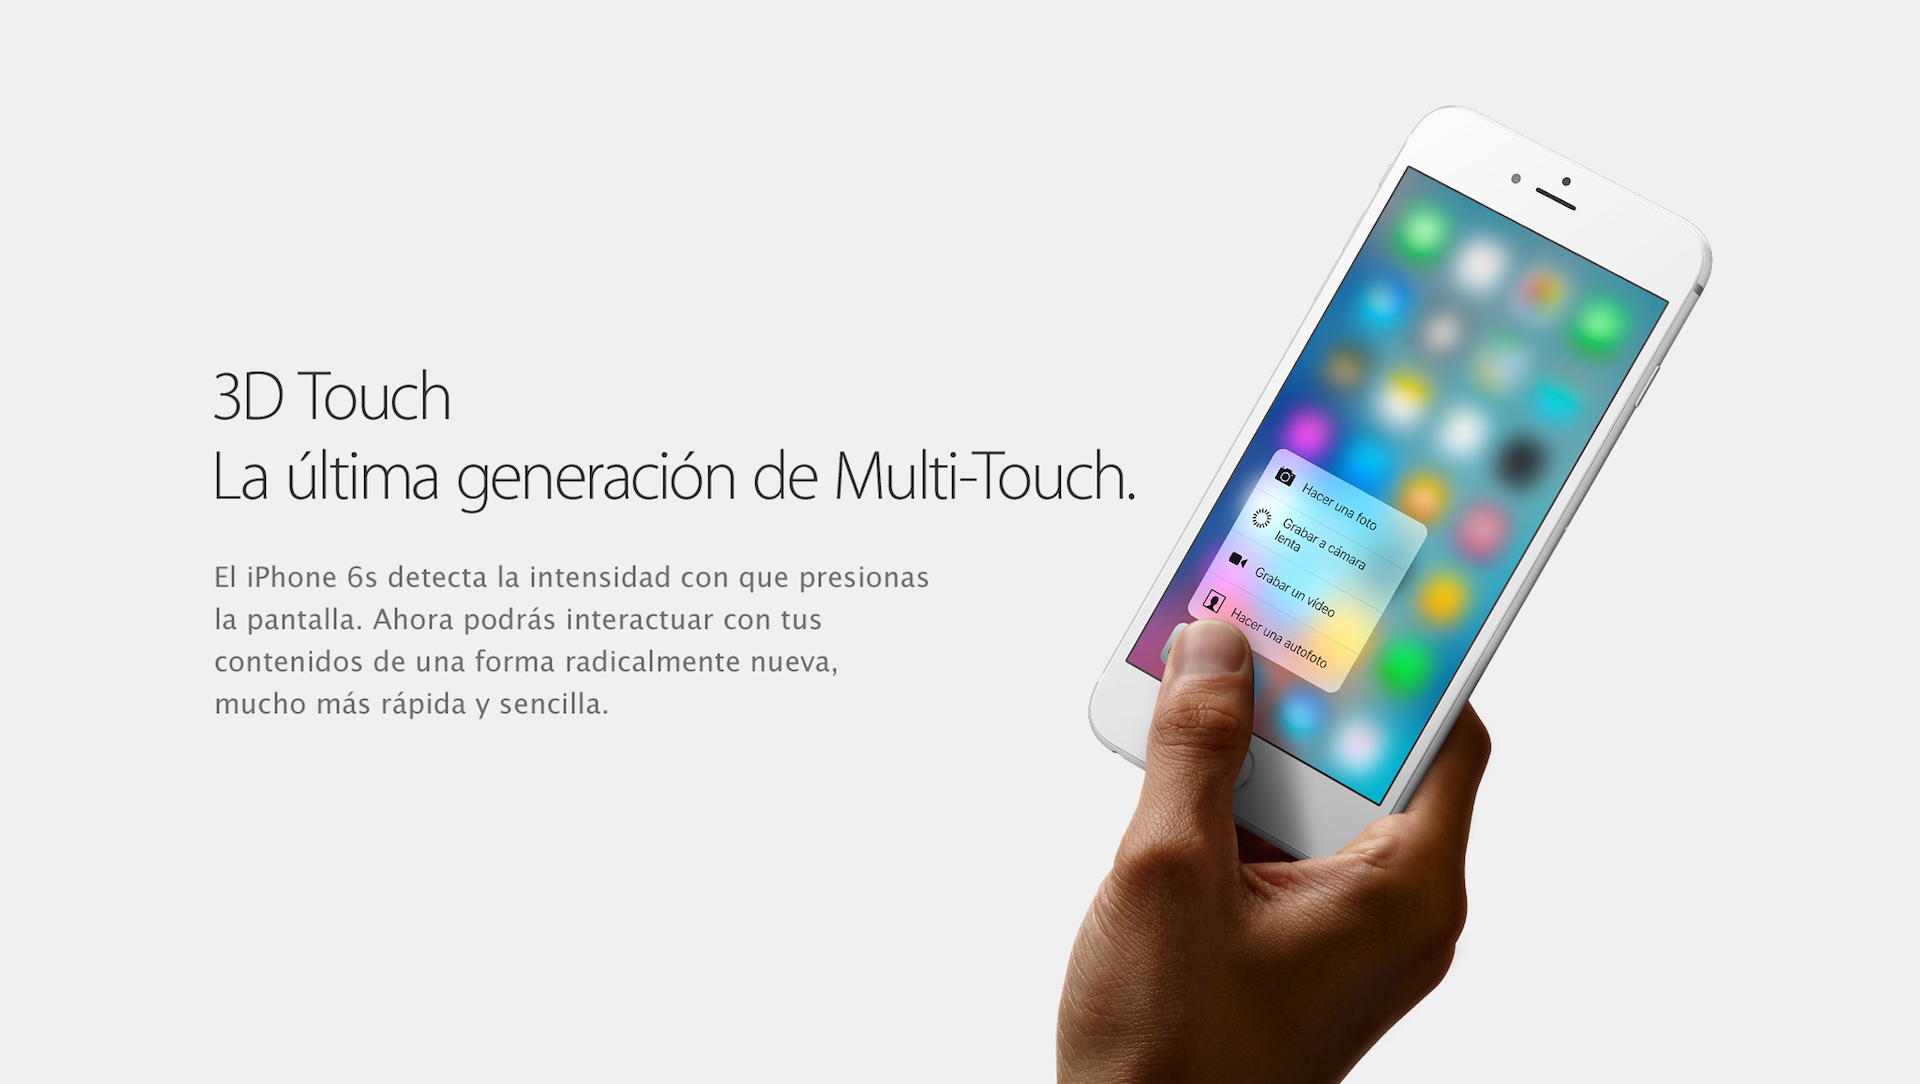smartphone: (1087, 102, 1716, 872)
